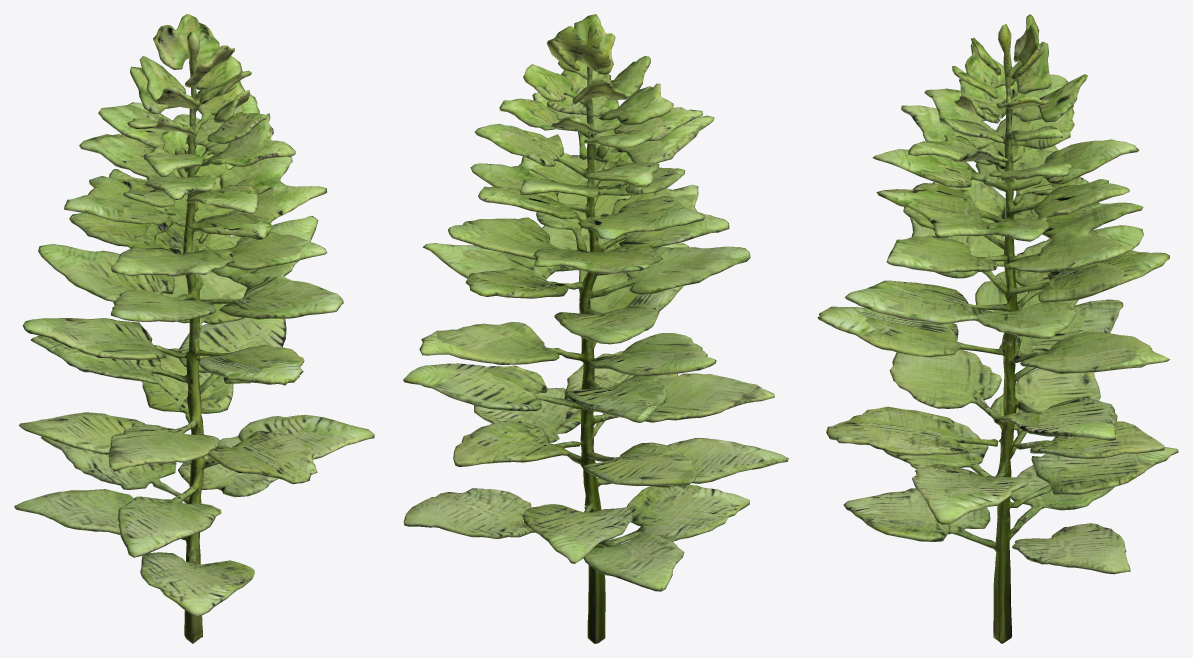
The picture shows the model from 3 angles, left to right: view 1: azimuth 30°, elevation 25°; view 2: azimuth 150°, elevation 25°; view 3: azimuth 270°, elevation 25°; orthographic projection.
Visible parts, largest first — view 1: Mesh1.0; view 2: Mesh1.0; view 3: Mesh1.0.
Part boxes in pixels (x1,y1,x2,y2): Mesh1.0: [14, 14, 374, 643]; Mesh1.0: [403, 14, 788, 643]; Mesh1.0: [817, 14, 1178, 643].
Bounding box in the file's own units: 101 × 200 × 105.
1 material, 1 textured.
